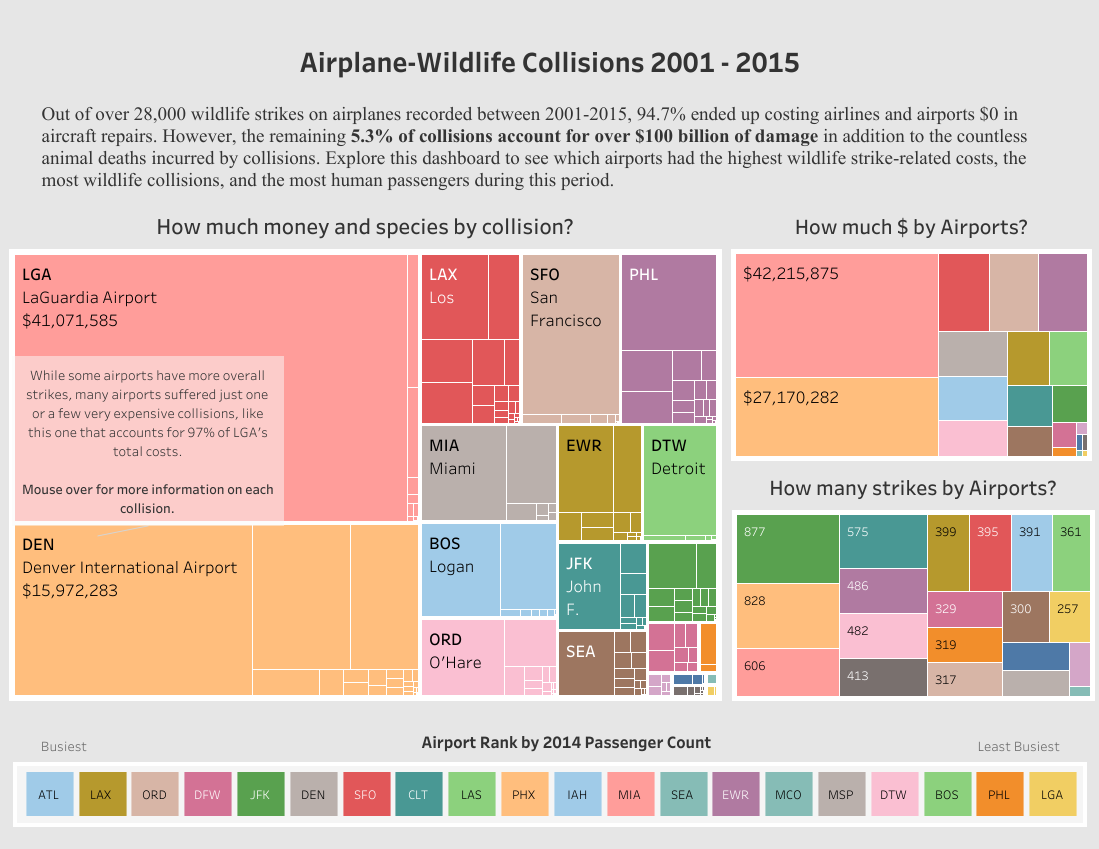

The dashboard page shown, as its layout file describes it:
{"tool":"tableau","page":{"name":"Dashboard 1","canvas":[1100,850],"ordinal":0},"visuals":[{"type":"text","box":[13.2,14.9,1073.6,91.4]},{"type":"text","box":[39,87,997,120]},{"type":"worksheet","title":"how much and what species?","mark":"Automatic","box":[9,205,712,495]},{"type":"worksheet","title":"how much?","mark":"Automatic","box":[731,206,361,255]},{"type":"worksheet","title":"how many strikes?","mark":"Automatic","box":[732,467,362,234]},{"type":"text","box":[419,726,296,30]},{"type":"text","box":[14,730,100,30]},{"type":"text","box":[975,730,100,30]},{"type":"blank","box":[13,762,1074,65]}]}

Visuals, with their boxes in screenshot pixels (x1, y1, x2, y2), scaled from the page's 1100x850 canvas onto the 1099x849 screenshot:
text: select_region(13, 15, 1086, 106)
text: select_region(39, 87, 1035, 207)
"how much and what species?" worksheet: select_region(9, 205, 720, 699)
"how much?" worksheet: select_region(730, 206, 1091, 460)
"how many strikes?" worksheet: select_region(731, 466, 1093, 700)
text: select_region(419, 725, 714, 755)
text: select_region(14, 729, 114, 759)
text: select_region(974, 729, 1074, 759)
blank: select_region(13, 761, 1086, 826)
